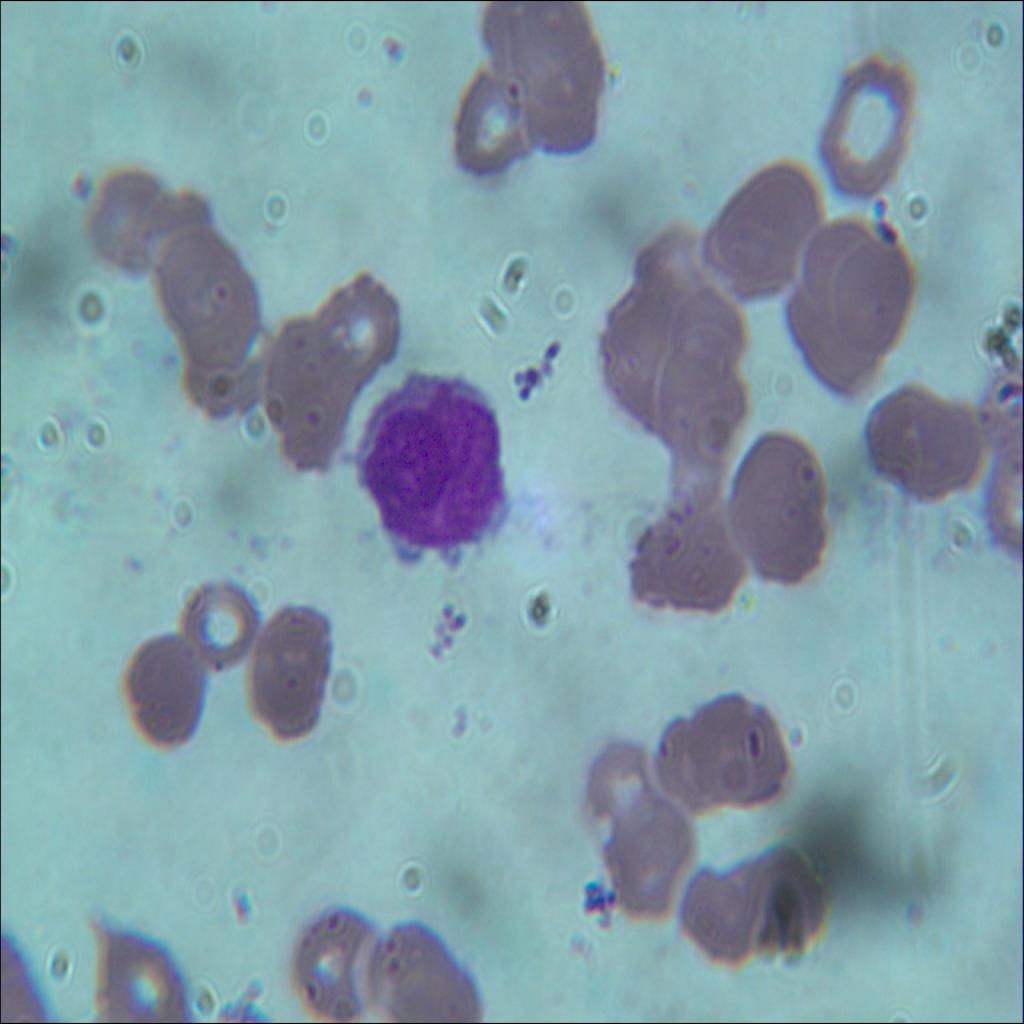Eritrosit: (726, 432, 830, 588), (706, 164, 824, 294), (813, 51, 915, 201), (858, 385, 981, 506), (594, 284, 695, 429), (156, 228, 258, 365), (264, 321, 355, 468), (628, 506, 740, 618), (650, 332, 749, 458), (694, 692, 791, 808), (604, 798, 695, 921), (354, 920, 462, 1023), (244, 604, 326, 738), (281, 909, 376, 1023), (446, 62, 536, 182), (318, 268, 406, 390), (741, 841, 830, 961), (90, 917, 184, 1023), (575, 737, 660, 854), (122, 630, 206, 746), (782, 292, 882, 388), (829, 244, 913, 355), (524, 42, 602, 159), (82, 168, 162, 282), (482, 2, 593, 81), (660, 272, 746, 371), (621, 217, 704, 318), (656, 407, 736, 511), (178, 325, 270, 415), (676, 858, 748, 968), (142, 188, 214, 295), (170, 582, 256, 671), (798, 216, 876, 310), (656, 714, 728, 812)
Limfoblast: (361, 371, 508, 558)
Platelet: (63, 166, 98, 198), (874, 215, 900, 254), (743, 722, 769, 759), (226, 892, 253, 926), (304, 396, 330, 431), (376, 34, 402, 64), (795, 457, 816, 494), (866, 192, 891, 221), (322, 904, 342, 938), (446, 604, 463, 634), (286, 332, 306, 354)
